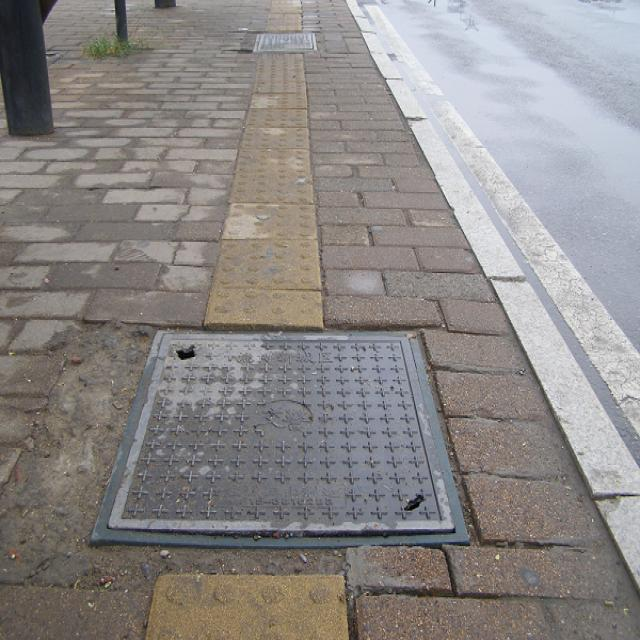manhole: (91, 331, 469, 548), (254, 32, 316, 52)
